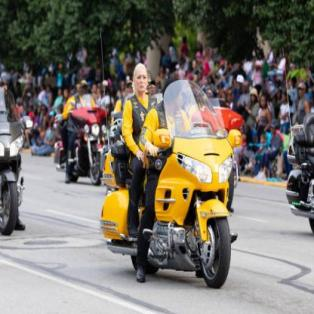Motocicleta: (101, 105, 238, 286)
